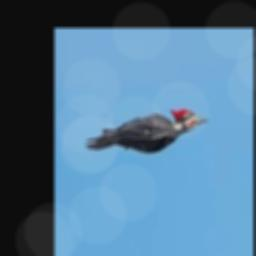Woodpecker: (84, 107, 207, 153)
